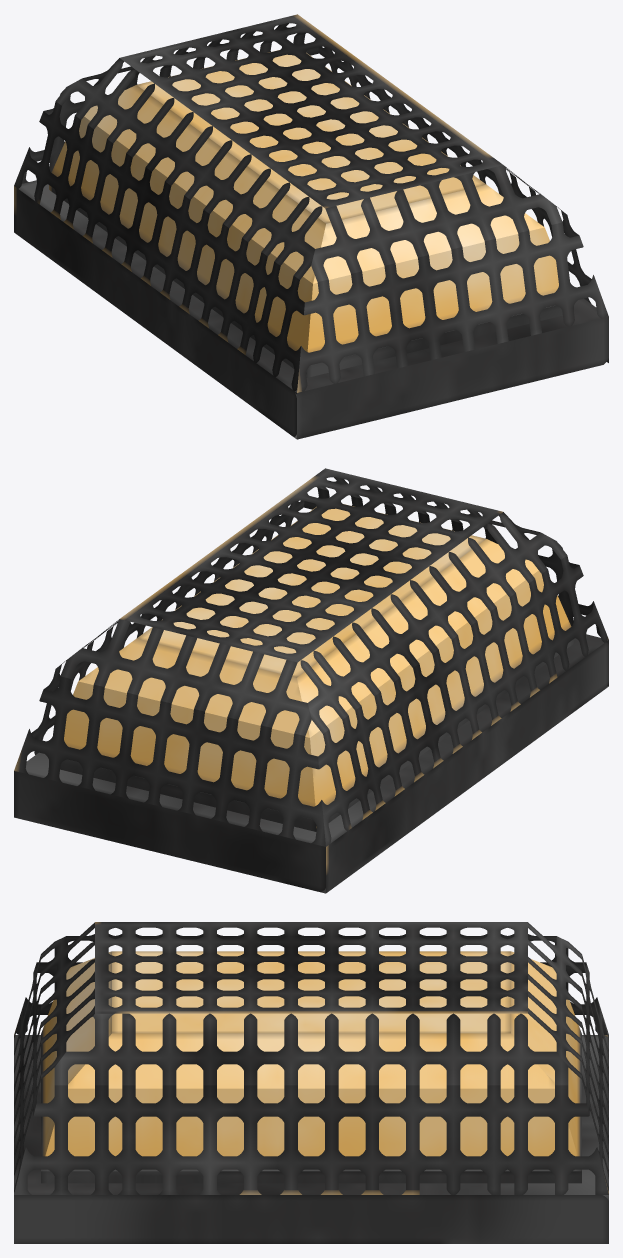
The model's file is industialLight2.obj.
The picture shows the model from 3 angles, top to bottom: view 1: azimuth 30°, elevation 25°; view 2: azimuth 150°, elevation 25°; view 3: azimuth 270°, elevation 25°; orthographic projection. The views are drawn at different scales.
Visible parts, largest first — view 1: Shell, Light; view 2: Shell, Light; view 3: Shell, Light.
Part boxes in pixels (x1=…): Shell: x1=14, y1=14, x2=608, y2=439; Light: x1=49, y1=50, x2=573, y2=394; Shell: x1=14, y1=468, x2=608, y2=893; Light: x1=49, y1=504, x2=573, y2=831; Shell: x1=14, y1=922, x2=608, y2=1243; Light: x1=41, y1=951, x2=581, y2=1183.
Size of the model in its own units: 0.875 by 0.5 by 1.38.
